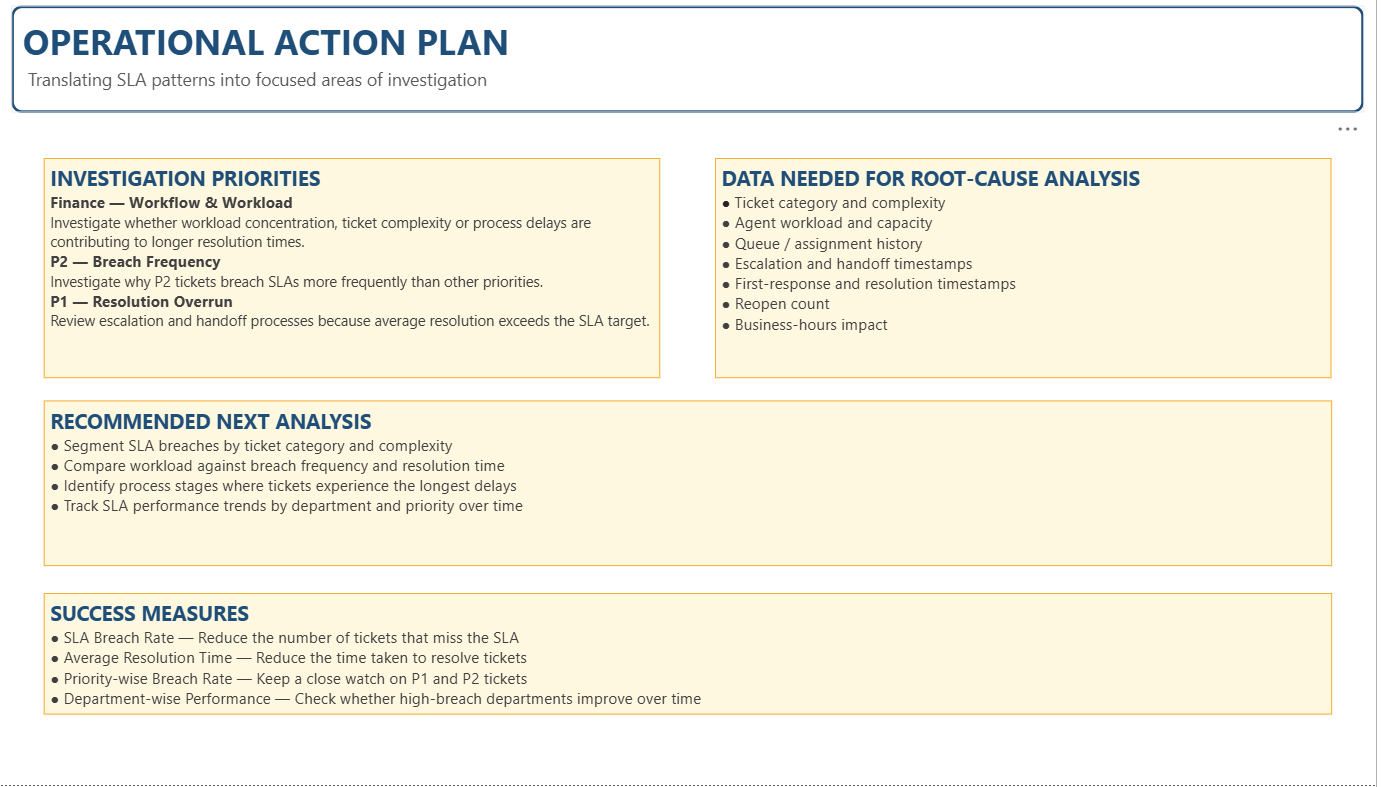

What the dashboard file says about the page in this screenshot:
{"tool":"powerbi","page":{"name":"Action Plan","canvas":[1250,720],"ordinal":2},"visuals":[{"type":"textbox","box":[10.2,11.4,1228.7,97.7],"z":0},{"type":"textbox","box":[20.4,62.5,1176.4,38.6],"z":1000},{"type":"textbox","box":[40,150,560,200],"z":2000},{"type":"textbox","box":[650,150,560,200],"z":3000},{"type":"textbox","box":[40,370,1170,150],"z":4000},{"type":"textbox","box":[40,545,1170,110],"z":5000}]}

Visuals, with their boxes in screenshot pixels (x1, y1, x2, y2), scaled from the page's 1250x720 canvas onto the 1382x787 screenshot:
textbox: 11, 12, 1370, 119
textbox: 23, 68, 1323, 111
textbox: 44, 164, 663, 383
textbox: 719, 164, 1338, 383
textbox: 44, 404, 1338, 568
textbox: 44, 596, 1338, 716
